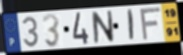3: (42, 12, 63, 48), (20, 15, 40, 49)
4: (72, 12, 90, 46)
F: (139, 6, 163, 42)
I: (128, 8, 135, 43)
N: (91, 9, 116, 45)
